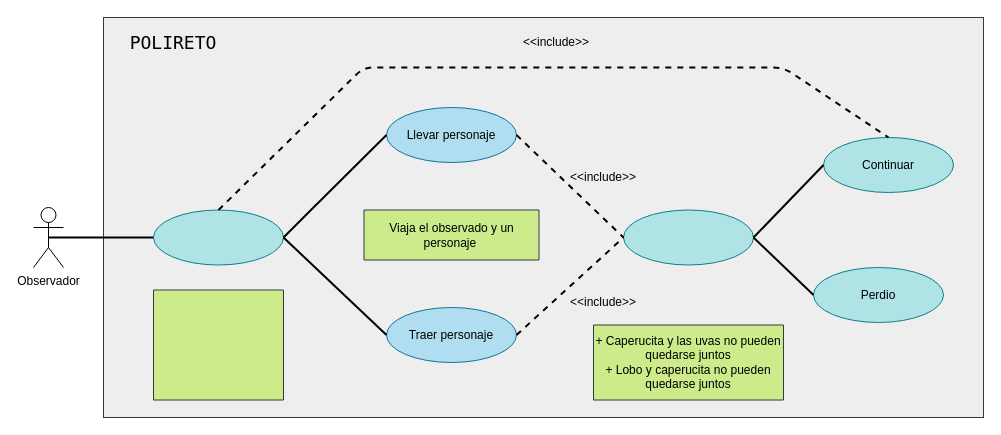
Some shapes in this 1001 by 435 pixel diagram are drawn without their labels. Here are the shapes that lost their labels. From the top down, the centre of each, then its label:
At point 218,237: "Escoger personaje".
At point 688,237: "Comprobar reglas".
At point 218,344: "ESCOGER + Caperucita + Lobo + Uvas + Solo".
